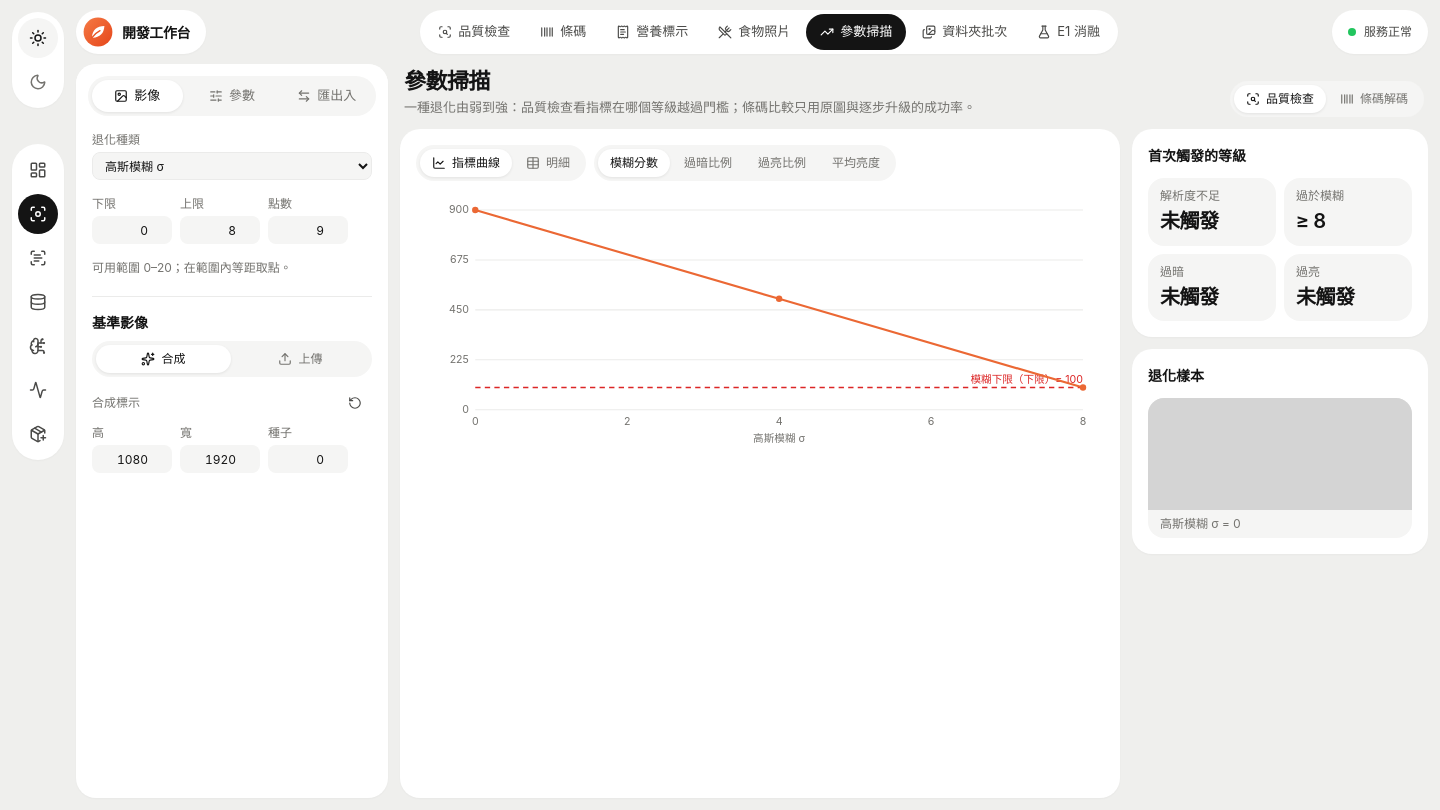
門檻與結果配對 › 參數不合法時，門檻線仍是算出曲線的那組參數
This screenshot has width=1440, height=810.
Expected: the text "模糊下限（下限）= 100" is shown, [970, 373, 1083, 386]
Click the tab "參數" at {"x": 232, "y": 96}, box [187, 80, 277, 112]
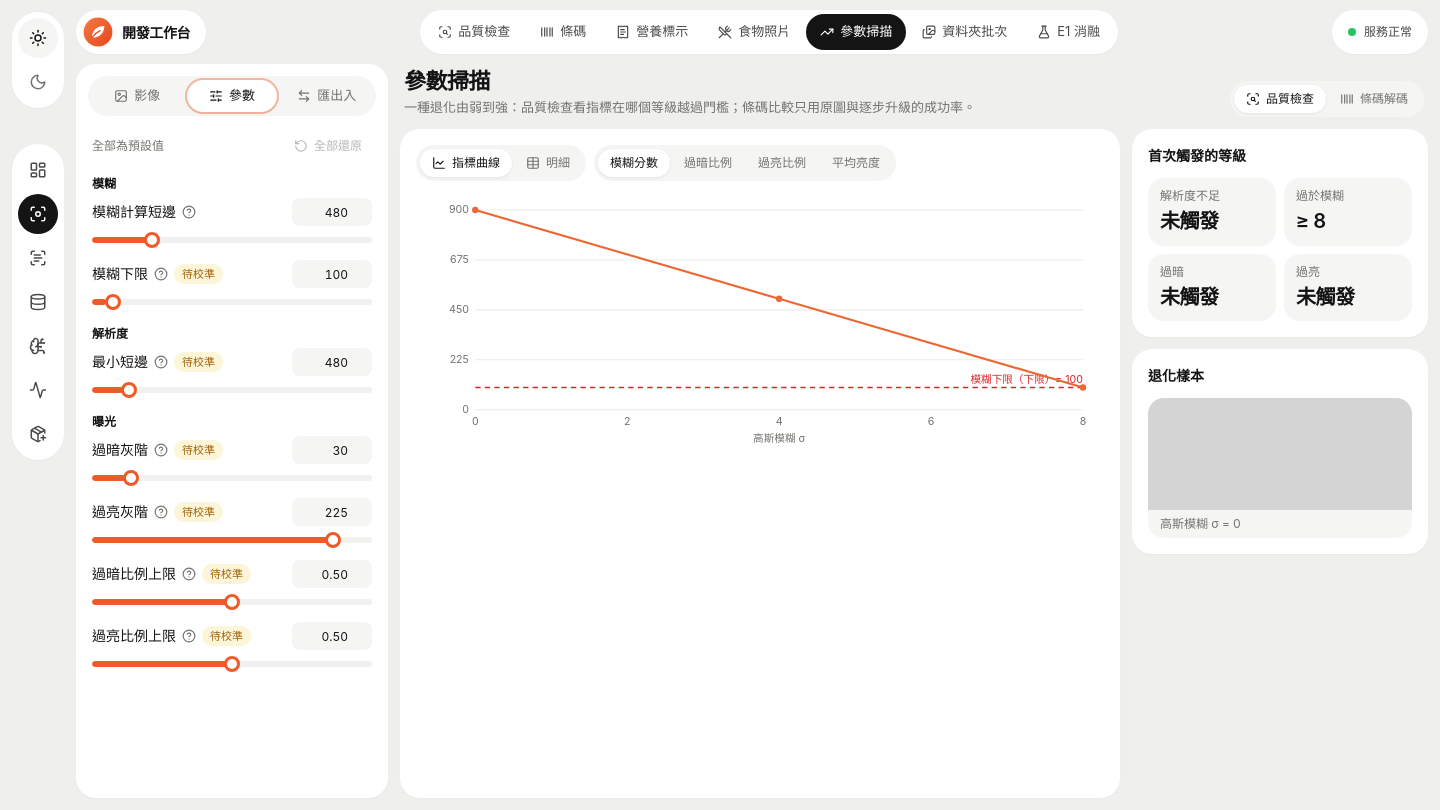
Replace the text in the number field labelled "模糊下限" with "1500" at {"x": 332, "y": 274}, box [292, 260, 372, 288]
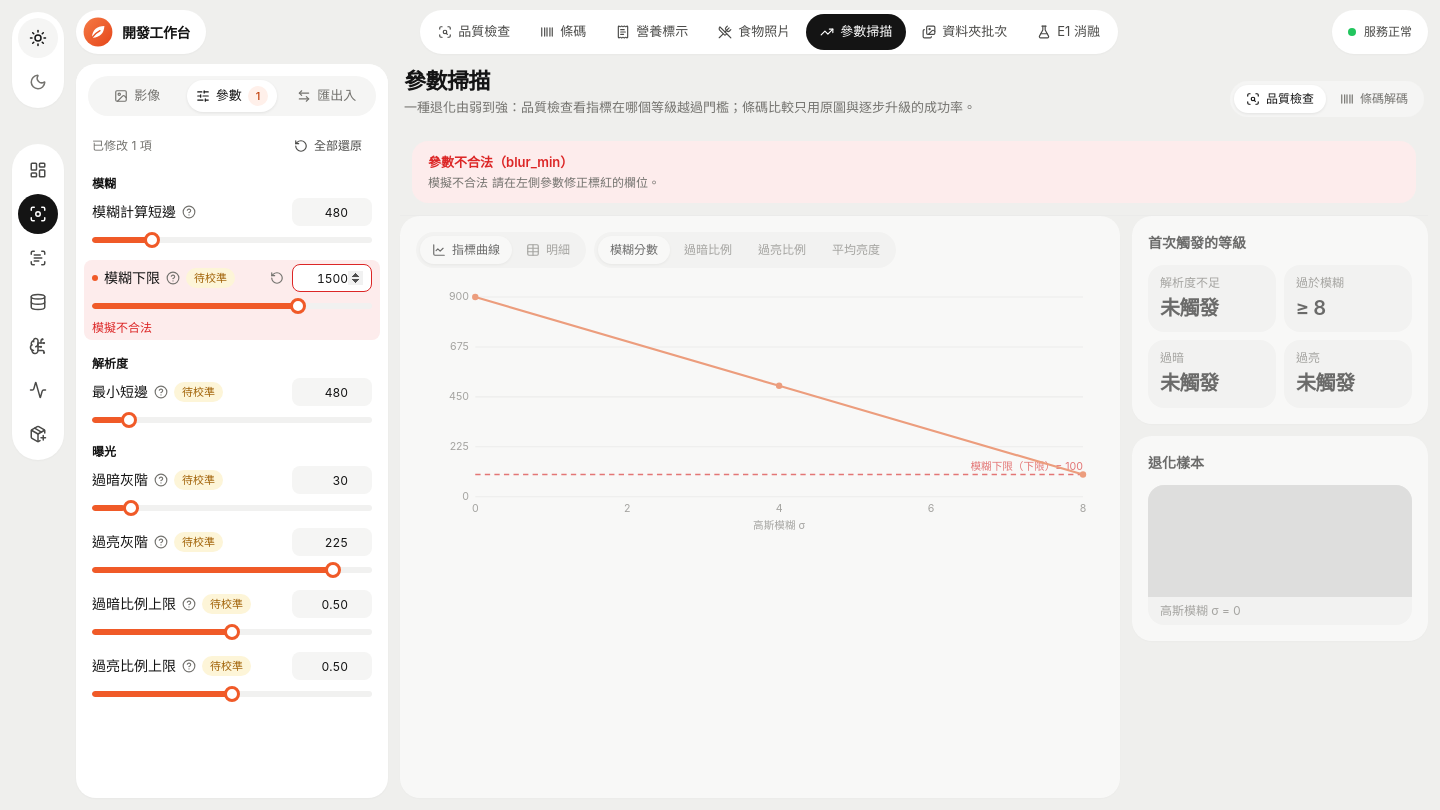
Expected: the text "模糊下限（下限）= 100" is shown, [970, 460, 1083, 473]
Expected: the message that starts with "參數不合法" is shown, [428, 154, 493, 170]
